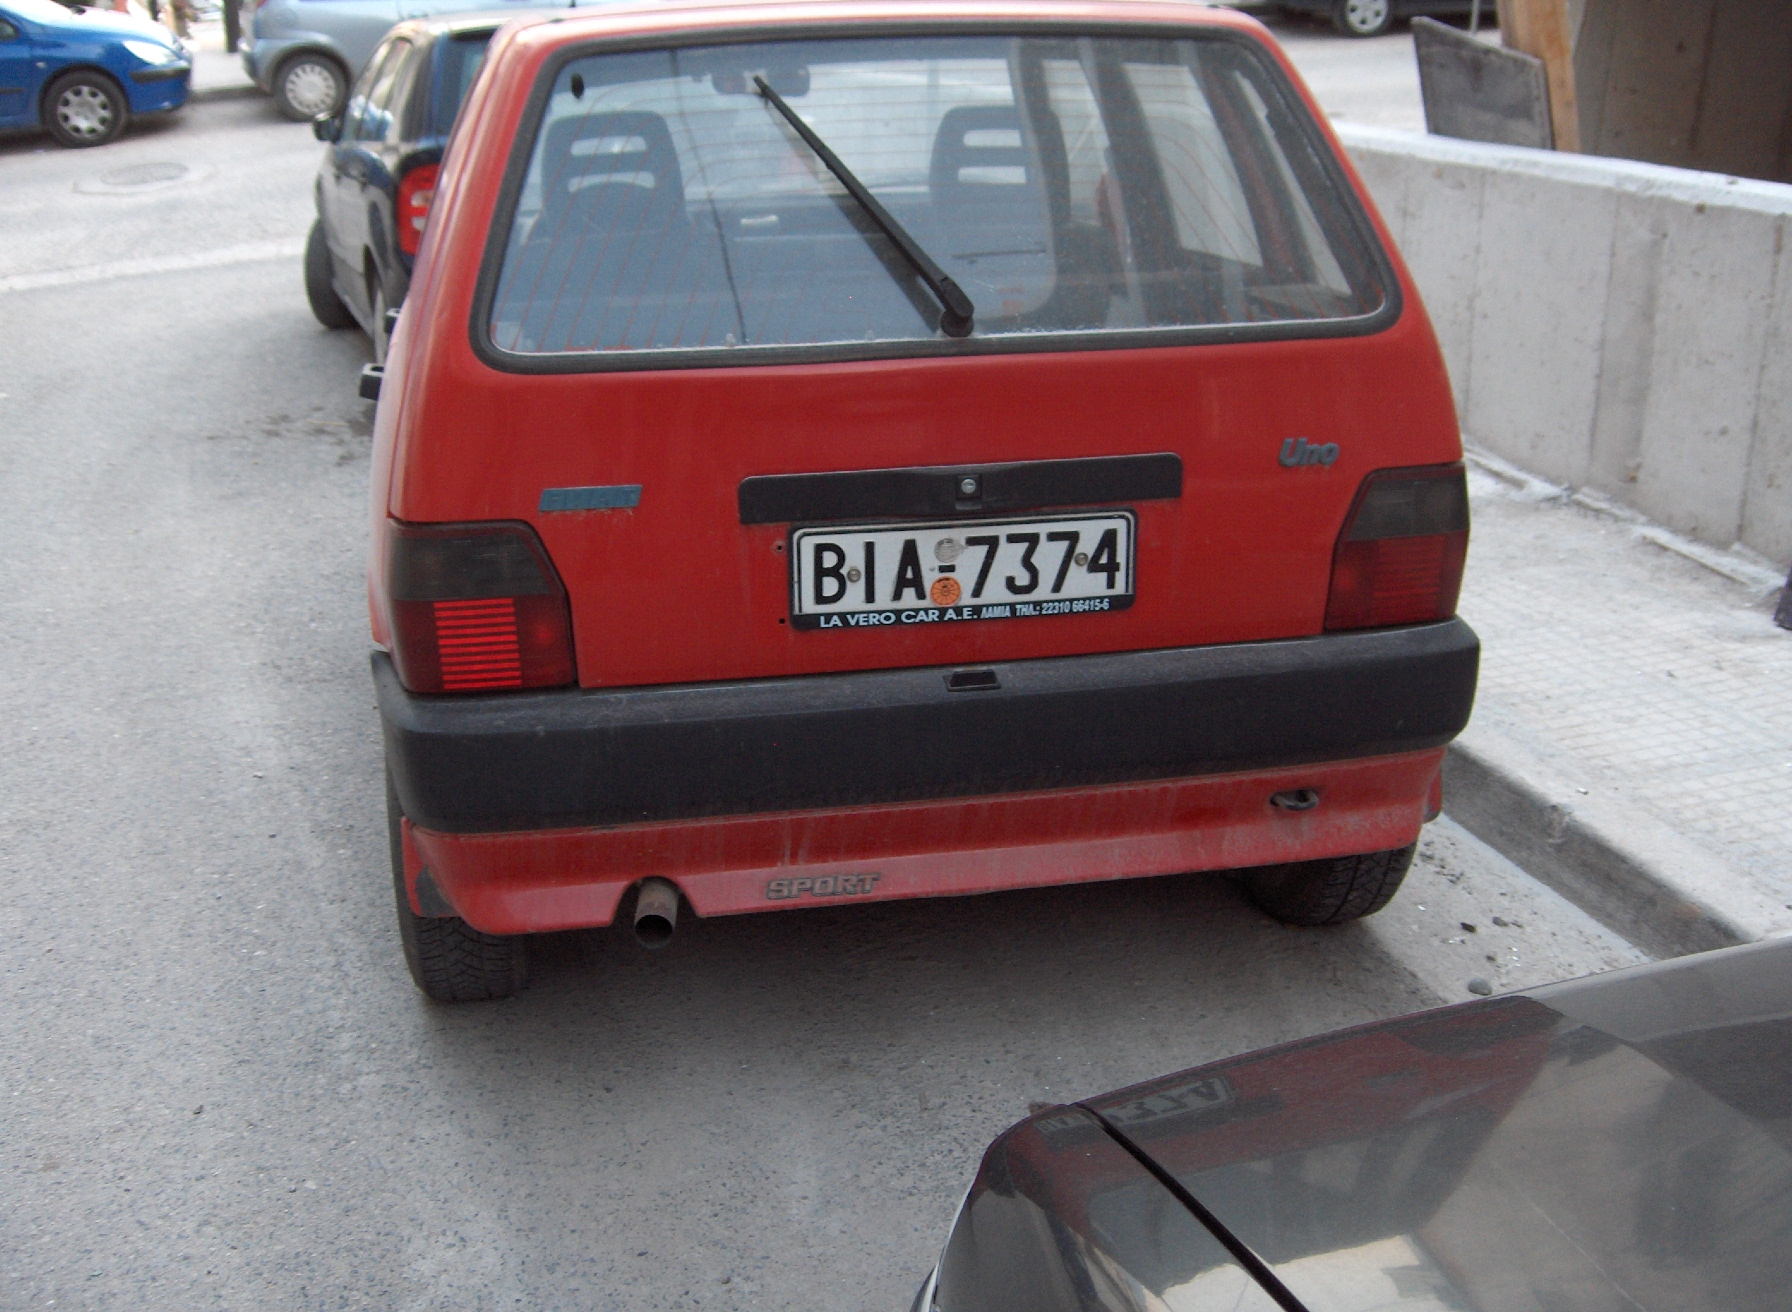licenseplate: (787, 506, 1134, 620)
